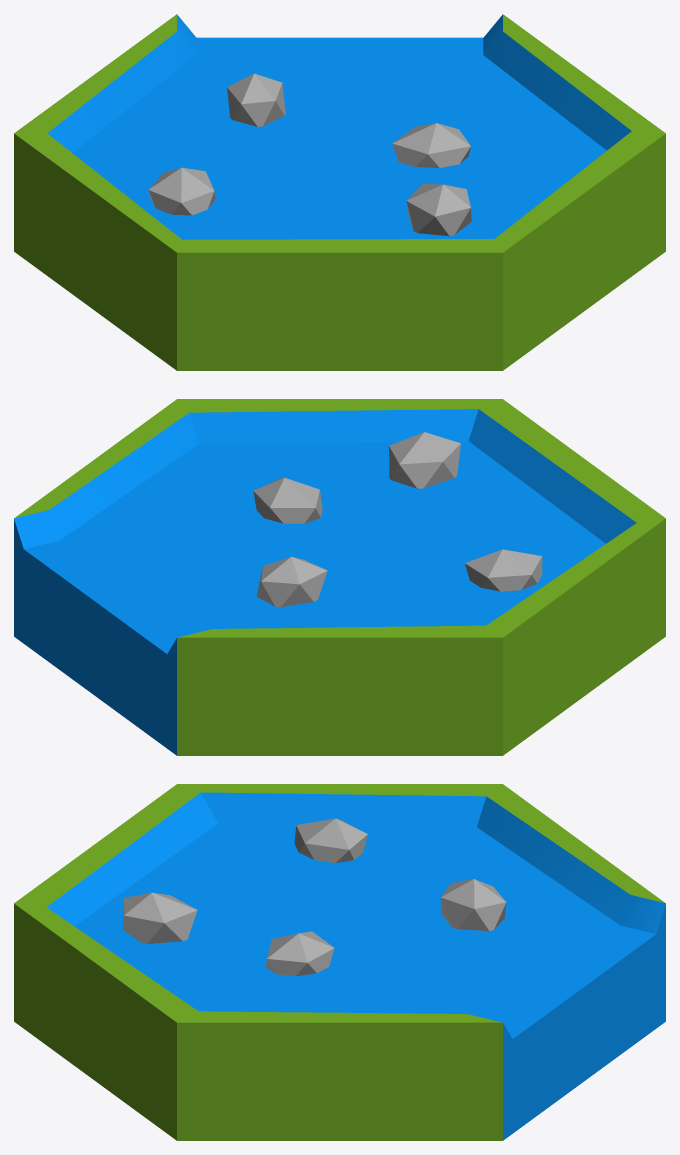
The model's file is Lago.fbx.
3 renders of one model, top to bottom at view 1: azimuth 30°, elevation 25°; view 2: azimuth 150°, elevation 25°; view 3: azimuth 270°, elevation 25°, orthographic.
Parts seen in each view (by area): view 1: Lago; view 2: Lago; view 3: Lago.
Boxes of the visible parts, x1,y1,x2,y2 form: Lago: (14,14,665,370); Lago: (14,399,665,755); Lago: (14,784,665,1140).
Bounding box in the file's own units: 86.6 × 22.6 × 100.
Materials: 2 (2 with a texture image).
